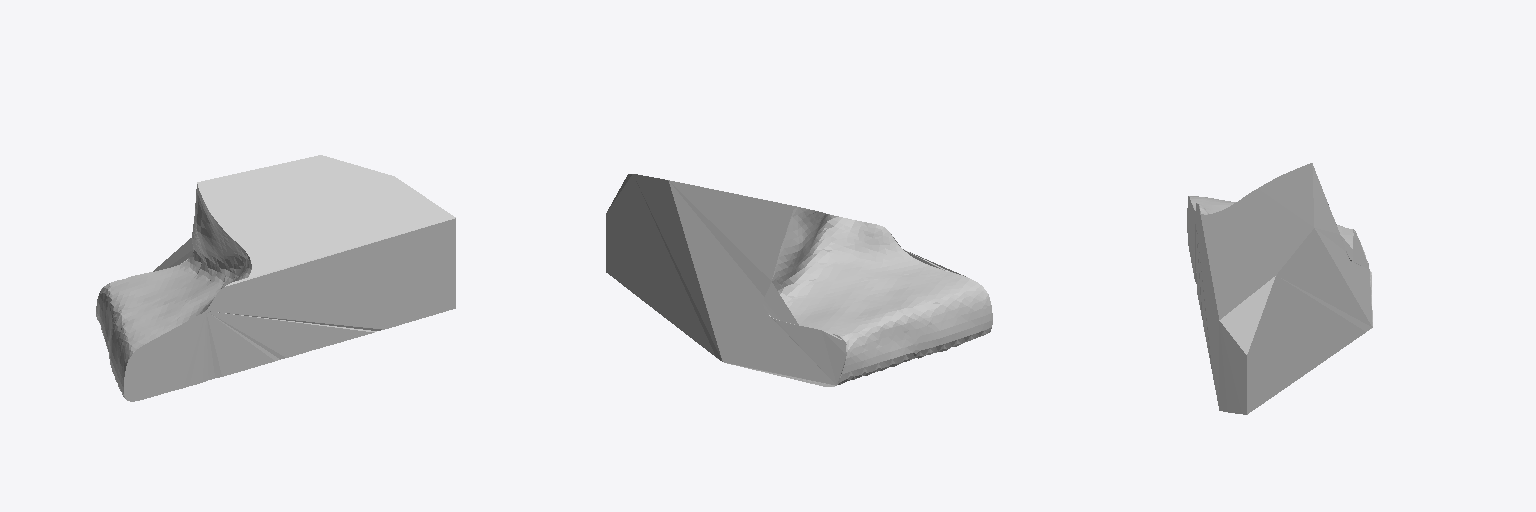
File: low_cell_030.obj
3 views of the same model, side by side, from view 1: azimuth 30°, elevation 25°; view 2: azimuth 150°, elevation 25°; view 3: azimuth 270°, elevation 25° (orthographic).
Visible parts, largest first — view 1: low_cell.030_low_cell.029; view 2: low_cell.030_low_cell.029; view 3: low_cell.030_low_cell.029.
Boxes of the visible parts, box(x1,y1,x2,y2) form: low_cell.030_low_cell.029: box(96, 155, 455, 401); low_cell.030_low_cell.029: box(606, 174, 992, 386); low_cell.030_low_cell.029: box(1187, 163, 1372, 414).
Size of the model in its own units: 1.05 by 0.4046 by 0.4698.